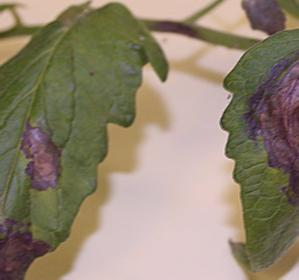Tomato leaf late blight: (0, 0, 165, 280), (222, 11, 299, 280)
